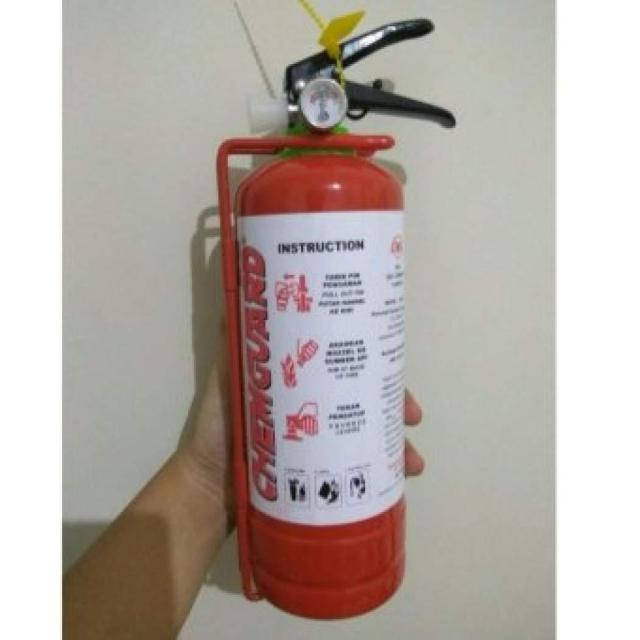fire_extinguisher: (211, 3, 463, 624)
